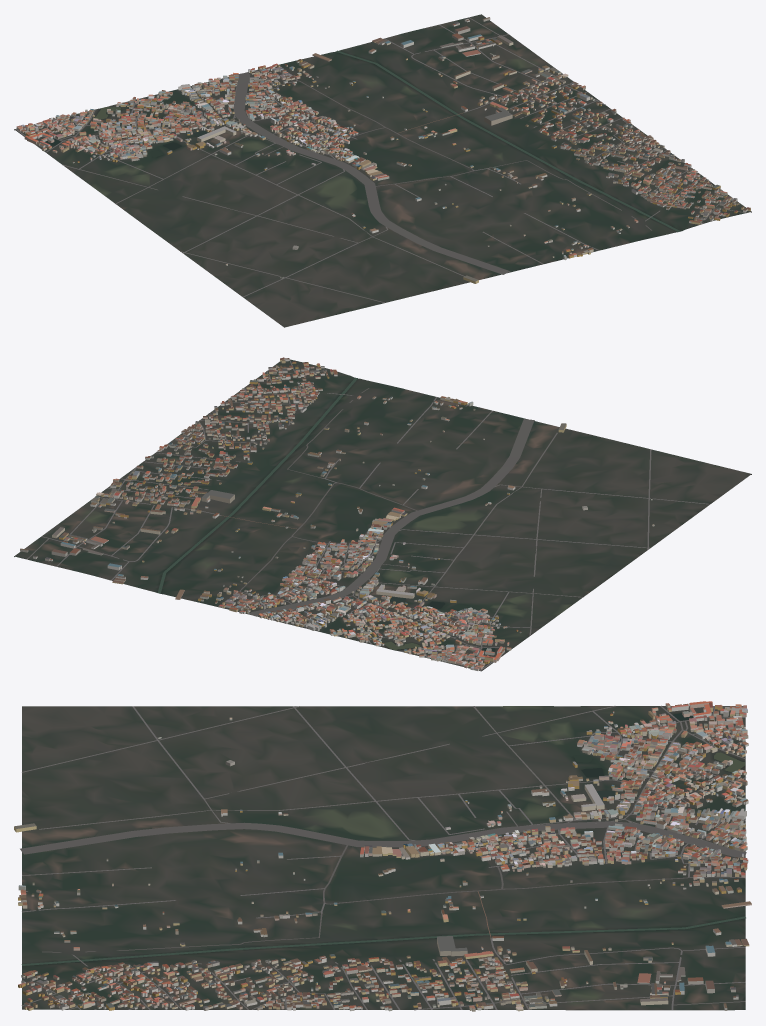
3 renders of one model, top to bottom at view 1: azimuth 30°, elevation 25°; view 2: azimuth 150°, elevation 25°; view 3: azimuth 270°, elevation 25°, orthographic. The views are drawn at different scales.
Parts seen in each view (by area): view 1: ground, buildings, roads, water; view 2: ground, buildings, roads, water; view 3: ground, buildings, roads, water.
Part boxes in pixels (x1,y1,x2,y2): ground: [14, 14, 751, 327]; buildings: [16, 17, 750, 283]; roads: [15, 17, 746, 302]; water: [45, 50, 680, 231]; ground: [14, 359, 751, 671]; buildings: [20, 357, 654, 670]; roads: [26, 359, 710, 670]; water: [157, 377, 494, 653]; ground: [22, 706, 745, 1010]; buildings: [14, 701, 751, 1011]; roads: [20, 705, 746, 1010]; water: [21, 711, 745, 965].
Size of the model in its own units: 1412 by 19.6 by 1429.
